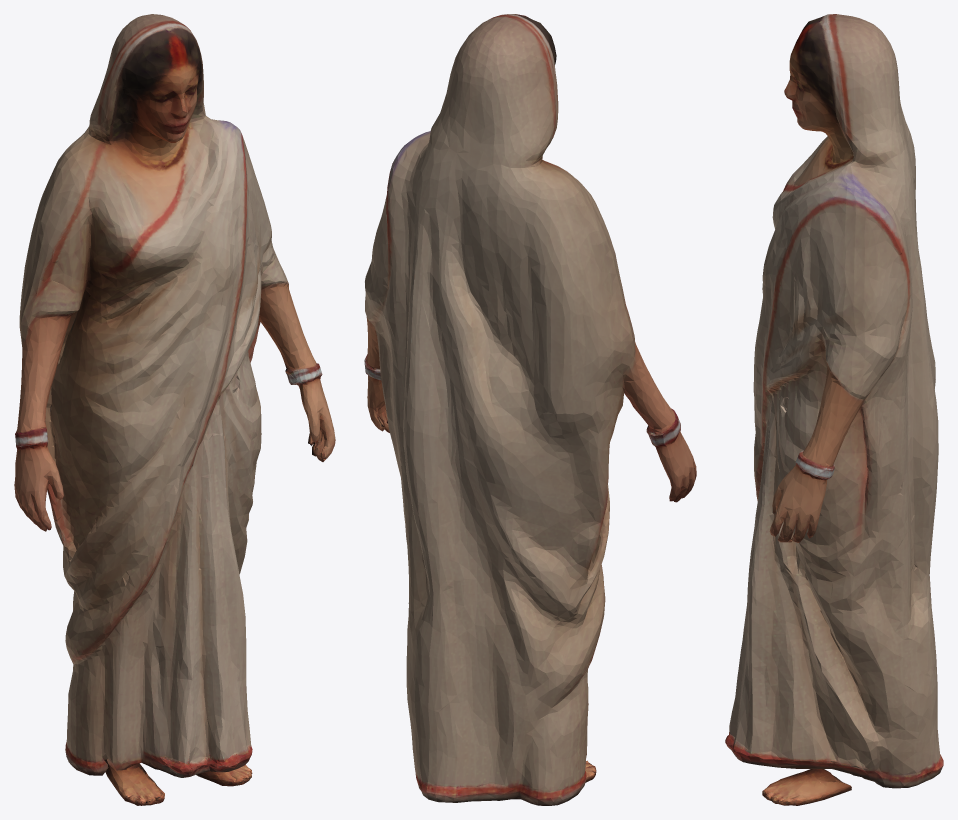
The model's file is shachi.glb.
The picture shows the model from 3 angles, left to right: view 1: azimuth 30°, elevation 25°; view 2: azimuth 150°, elevation 25°; view 3: azimuth 270°, elevation 25°; orthographic projection. The views are drawn at different scales.
Parts seen in each view (by area): view 1: world; view 2: world; view 3: world.
Boxes of the visible parts, x1,y1,x2,y2 form: world: (14, 14, 335, 805); world: (364, 14, 696, 805); world: (725, 14, 943, 805).
Size of the model in its own units: 0.4297 by 0.998 by 0.2606.
1 material, 1 textured.
